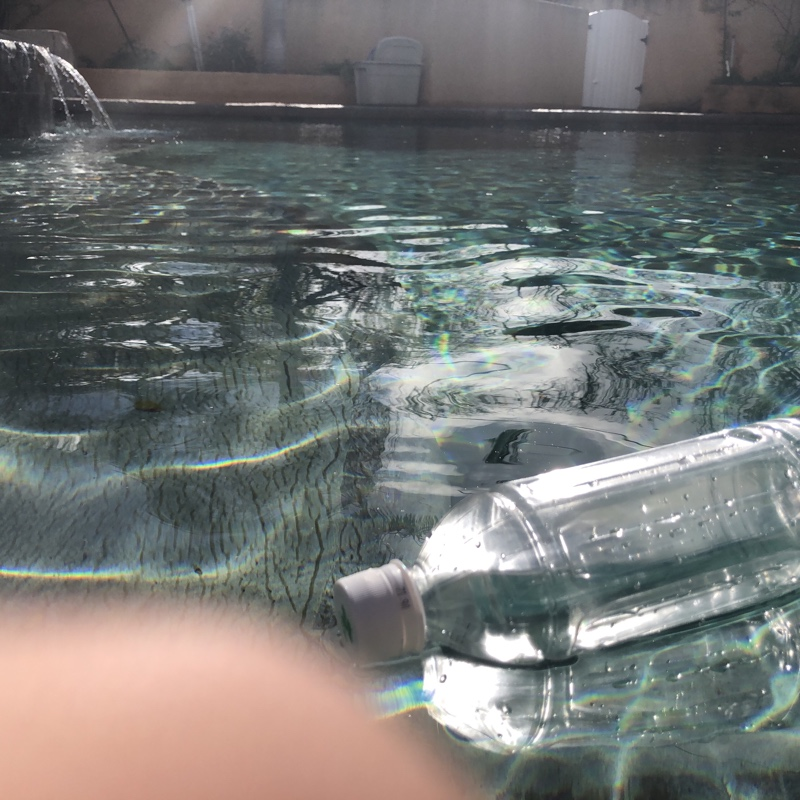Plastic Bottle: (328, 411, 800, 671)
